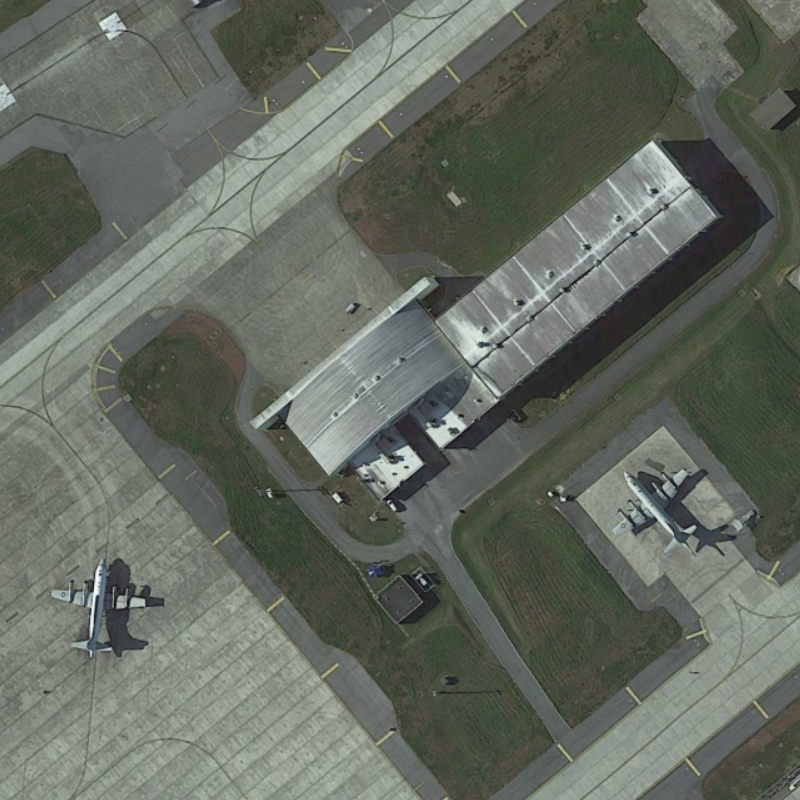A9: (44, 551, 152, 660), (604, 460, 705, 559)
